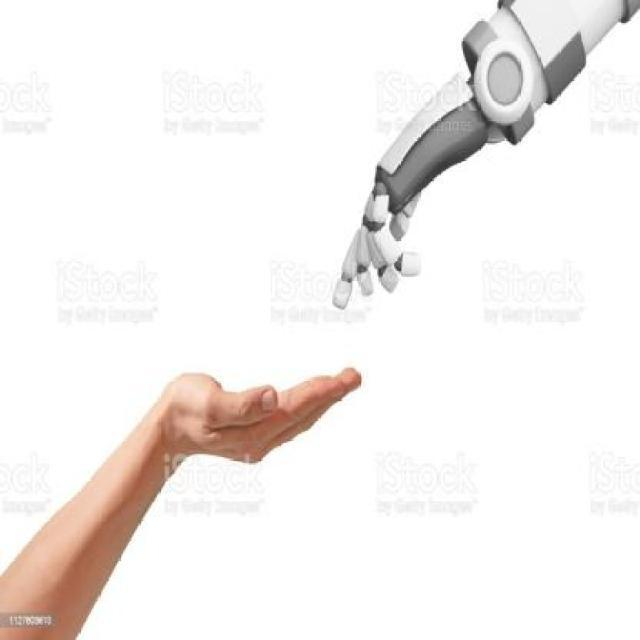no_apron: (143, 342, 369, 478)
